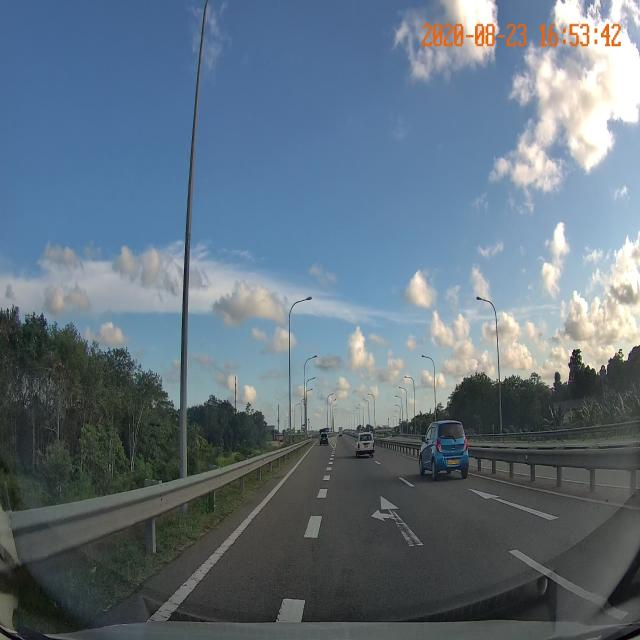forward_lft: (296, 482, 520, 567)
